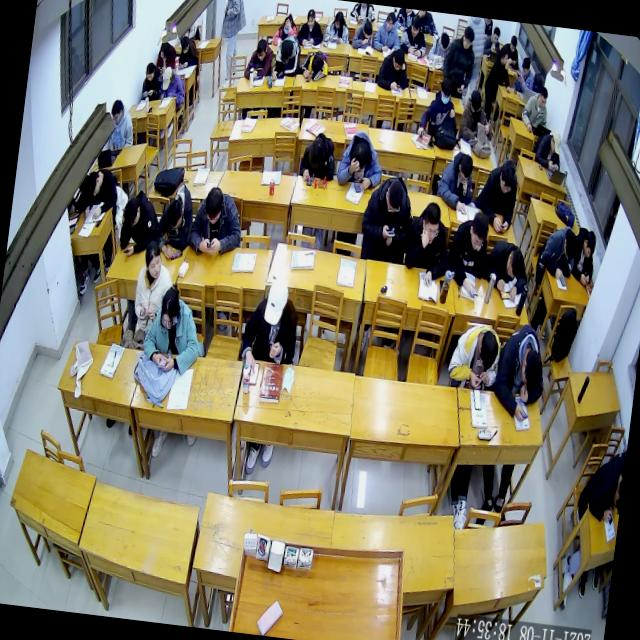bow: (488, 318, 550, 424), (150, 180, 198, 262), (113, 182, 161, 260), (334, 126, 388, 194), (481, 237, 532, 307), (532, 218, 582, 284), (297, 129, 339, 184), (298, 46, 330, 84), (268, 11, 298, 48), (350, 12, 376, 50), (427, 30, 452, 64)
down: (574, 448, 626, 525), (261, 274, 292, 330), (464, 208, 492, 254), (517, 346, 544, 393), (158, 285, 184, 332), (476, 329, 502, 375), (419, 200, 443, 248), (201, 184, 227, 228), (503, 244, 527, 282), (382, 177, 406, 214), (496, 158, 518, 198), (120, 194, 143, 230), (162, 198, 185, 233), (305, 136, 327, 172), (350, 140, 370, 174), (466, 86, 485, 120), (456, 154, 475, 187), (560, 227, 578, 261), (84, 168, 102, 200), (437, 75, 455, 105), (582, 228, 598, 261), (108, 98, 125, 128), (459, 22, 476, 52), (277, 38, 295, 66), (548, 130, 564, 156), (159, 65, 174, 92), (253, 37, 268, 64), (391, 46, 406, 72), (408, 13, 422, 40), (536, 85, 550, 111), (308, 52, 324, 74), (332, 8, 346, 32), (438, 29, 452, 53), (361, 19, 374, 42), (519, 55, 531, 78), (158, 39, 171, 60), (178, 34, 191, 55), (281, 14, 293, 36), (490, 24, 502, 46), (144, 61, 156, 82), (305, 6, 317, 27), (508, 33, 518, 54)
sit: (237, 270, 304, 380), (138, 276, 208, 376), (357, 170, 418, 268), (128, 234, 177, 343), (400, 194, 455, 288), (184, 182, 248, 262), (444, 314, 506, 396), (442, 207, 492, 300), (472, 150, 522, 234), (210, 0, 249, 91), (438, 21, 480, 101), (416, 72, 462, 142), (434, 146, 479, 213), (456, 85, 498, 149), (81, 162, 121, 222), (568, 224, 600, 286), (268, 30, 304, 85), (375, 41, 412, 94), (105, 94, 138, 151), (428, 46, 462, 100), (518, 82, 552, 134), (483, 44, 515, 94), (532, 127, 566, 174), (370, 10, 402, 58), (242, 35, 274, 82), (398, 12, 430, 57), (296, 4, 328, 46), (139, 58, 166, 104), (157, 65, 187, 106), (510, 53, 538, 96), (322, 8, 351, 47), (501, 30, 524, 70), (154, 36, 178, 73), (176, 33, 200, 70), (481, 22, 504, 58)
